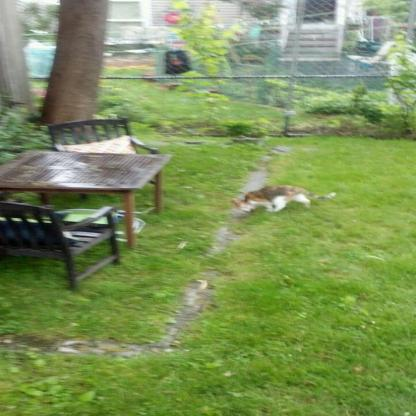Target: (239, 179, 345, 219)
